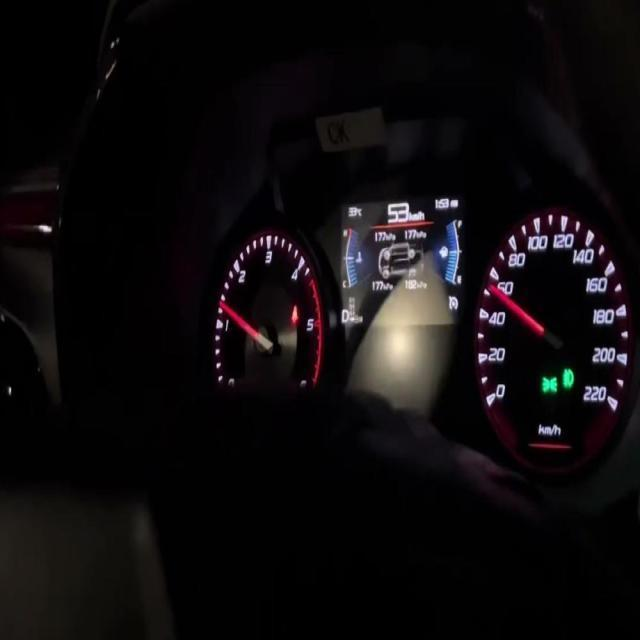Seat Belt: (290, 305, 299, 323)
